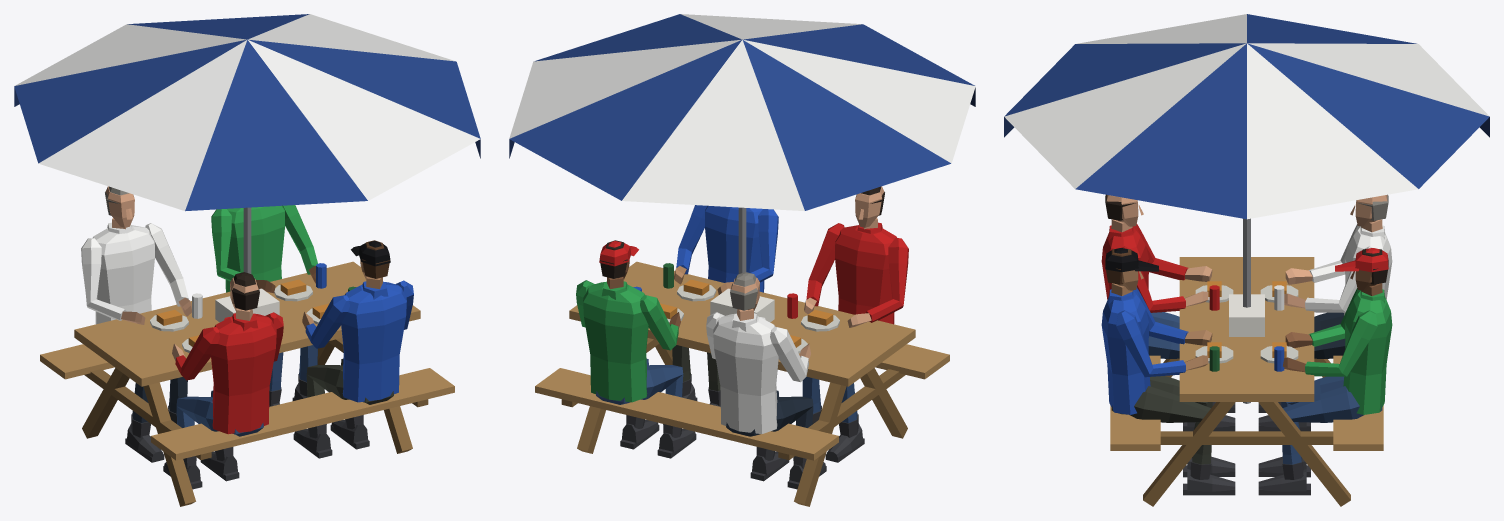
Rendered from lunch_table.glb.
The picture shows the model from 3 angles, left to right: view 1: azimuth 30°, elevation 25°; view 2: azimuth 150°, elevation 25°; view 3: azimuth 270°, elevation 25°; orthographic projection.
Parts seen in each view (by area): view 1: Parasol, People, Table; view 2: Parasol, People, Table; view 3: Parasol, People, Table.
Part boxes in pixels (x1=…): Parasol: x1=14, y1=14, x2=480, y2=273; People: x1=81, y1=186, x2=413, y2=489; Table: x1=40, y1=261, x2=454, y2=506; Parasol: x1=509, y1=14, x2=975, y2=273; People: x1=576, y1=186, x2=908, y2=489; Table: x1=535, y1=261, x2=949, y2=506; Parasol: x1=1004, y1=14, x2=1489, y2=403; People: x1=1101, y1=194, x2=1392, y2=495; Table: x1=1110, y1=257, x2=1383, y2=506.
Bounding box in the file's own units: 2.7 × 2.5 × 2.7.
